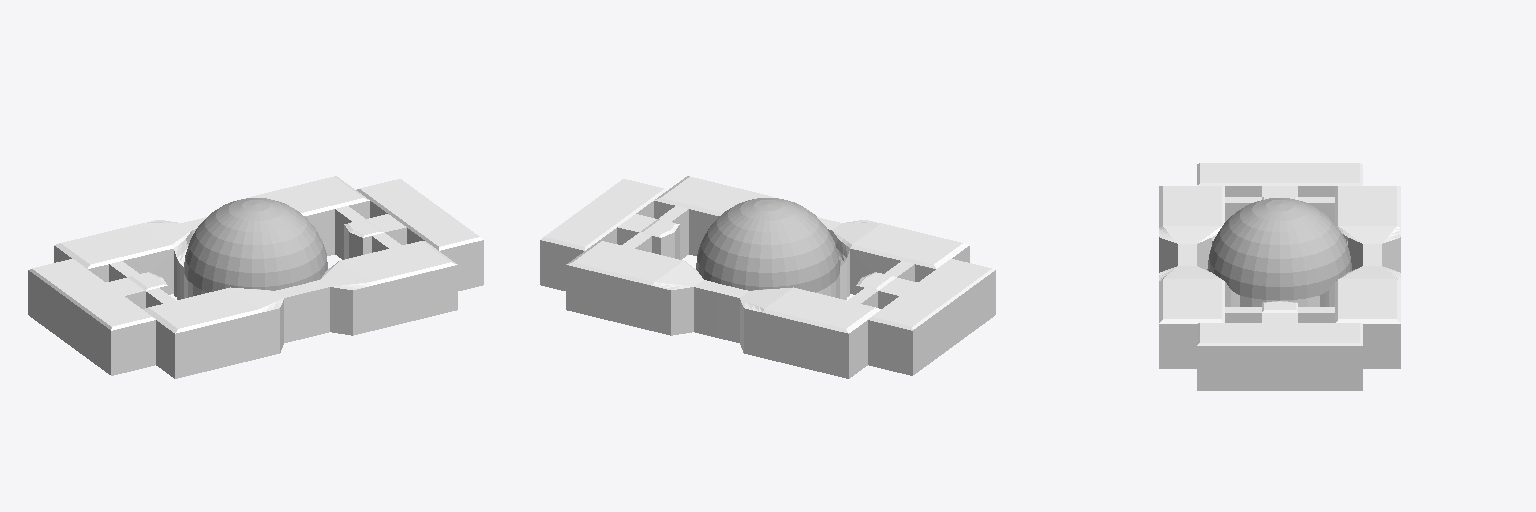
The model's file is UpdatedMap.obj.
3 views of the same model, side by side, from view 1: azimuth 30°, elevation 25°; view 2: azimuth 150°, elevation 25°; view 3: azimuth 270°, elevation 25° (orthographic).
Parts seen in each view (by area): view 1: Map_Cylinder.002, Sphere_Sphere.001; view 2: Map_Cylinder.002, Sphere_Sphere.001; view 3: Map_Cylinder.002, Sphere_Sphere.001.
Boxes of the visible parts, x1,y1,x2,y2 form: Map_Cylinder.002: [28, 176, 483, 378]; Sphere_Sphere.001: [184, 198, 327, 292]; Map_Cylinder.002: [540, 176, 995, 378]; Sphere_Sphere.001: [696, 198, 839, 292]; Map_Cylinder.002: [1159, 163, 1400, 390]; Sphere_Sphere.001: [1207, 198, 1351, 300].
Bounding box in the file's own units: 85 × 22.58 × 47.87.